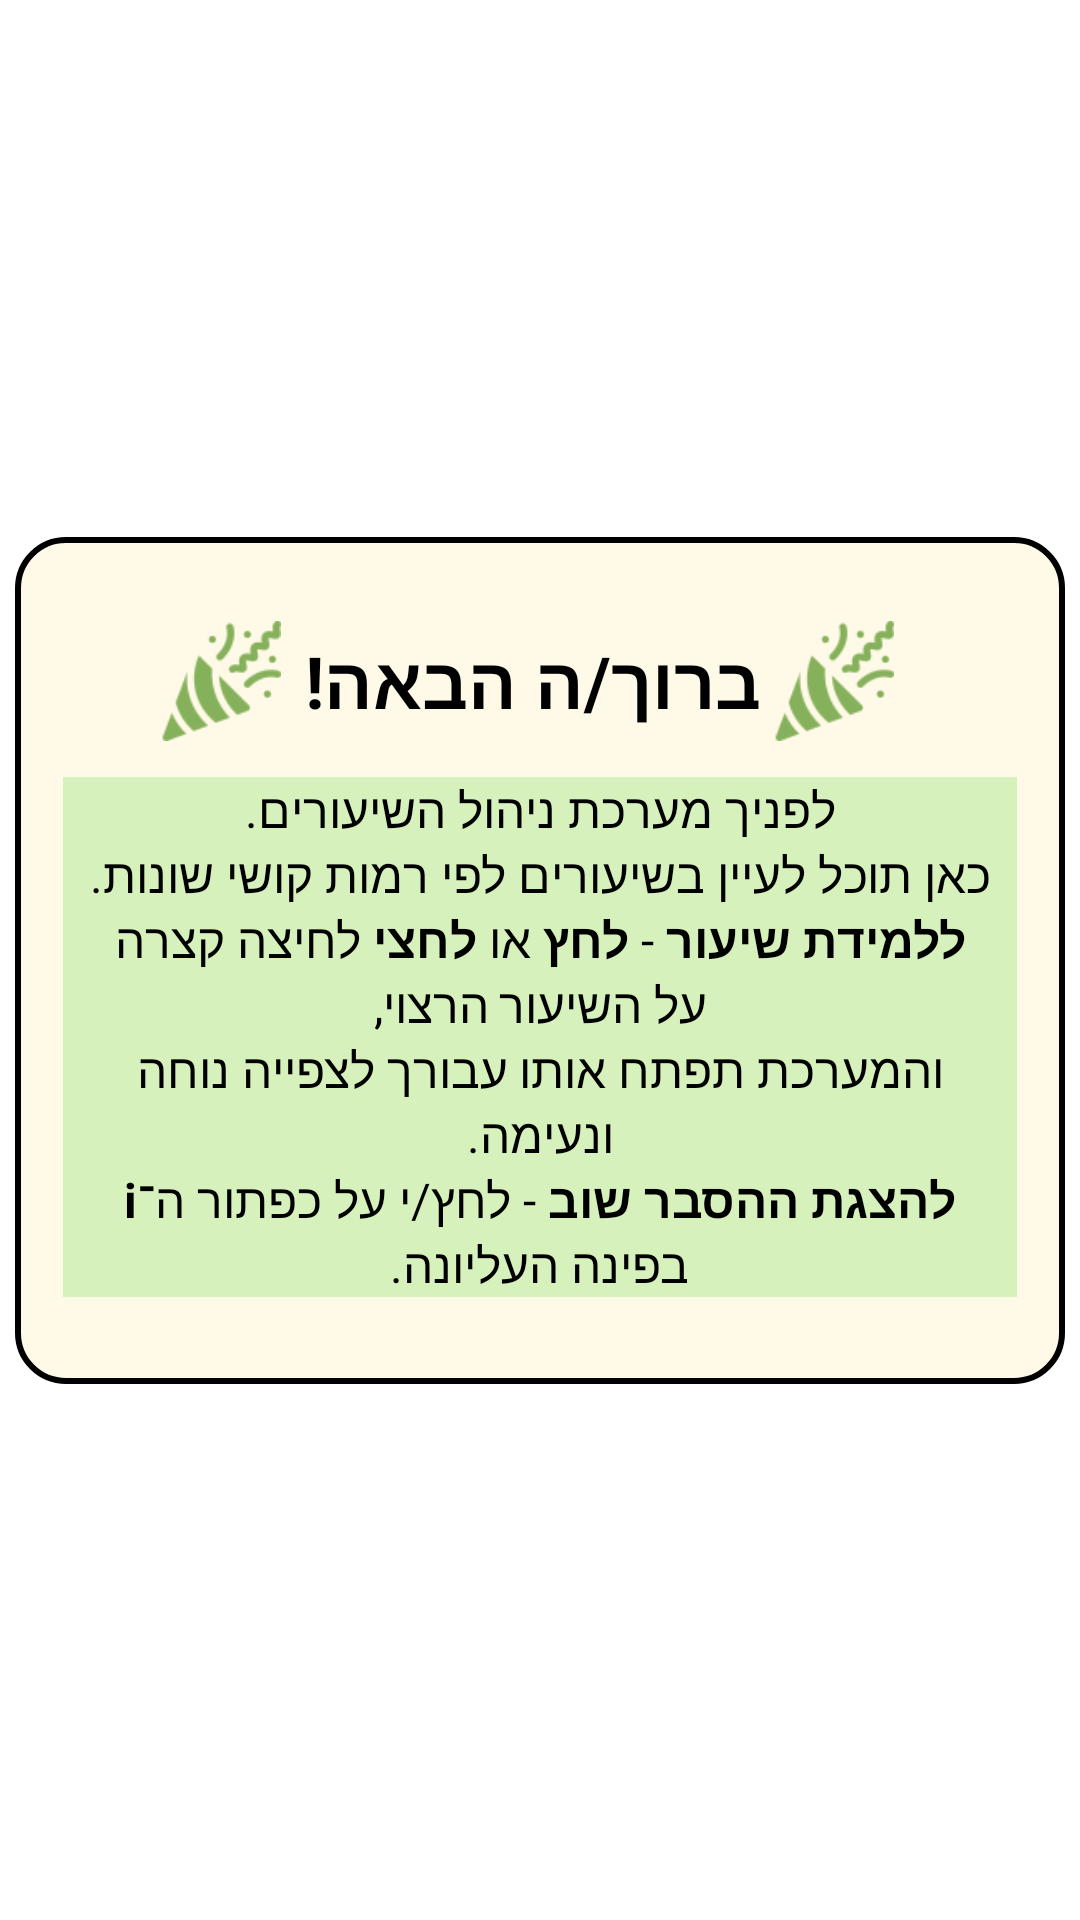

Icon click points for this 1080 × 1920 phone screenshot, format (x,y):
party: (221,681), (834,681)
